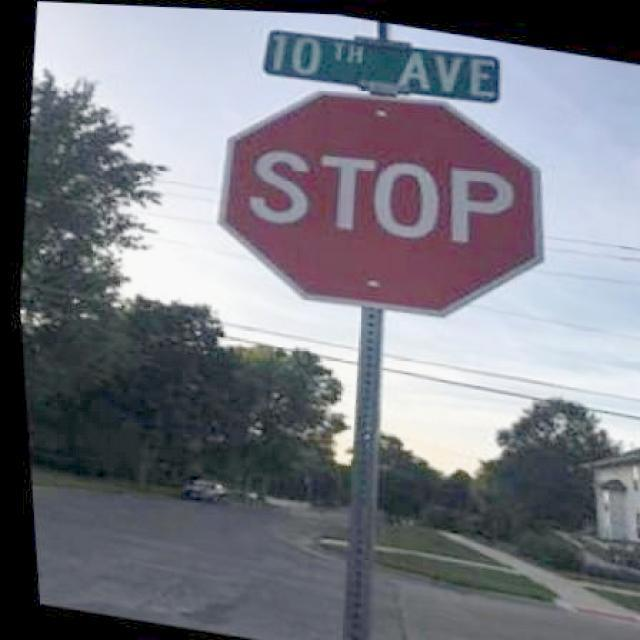stop_sign: (172, 74, 574, 344)
